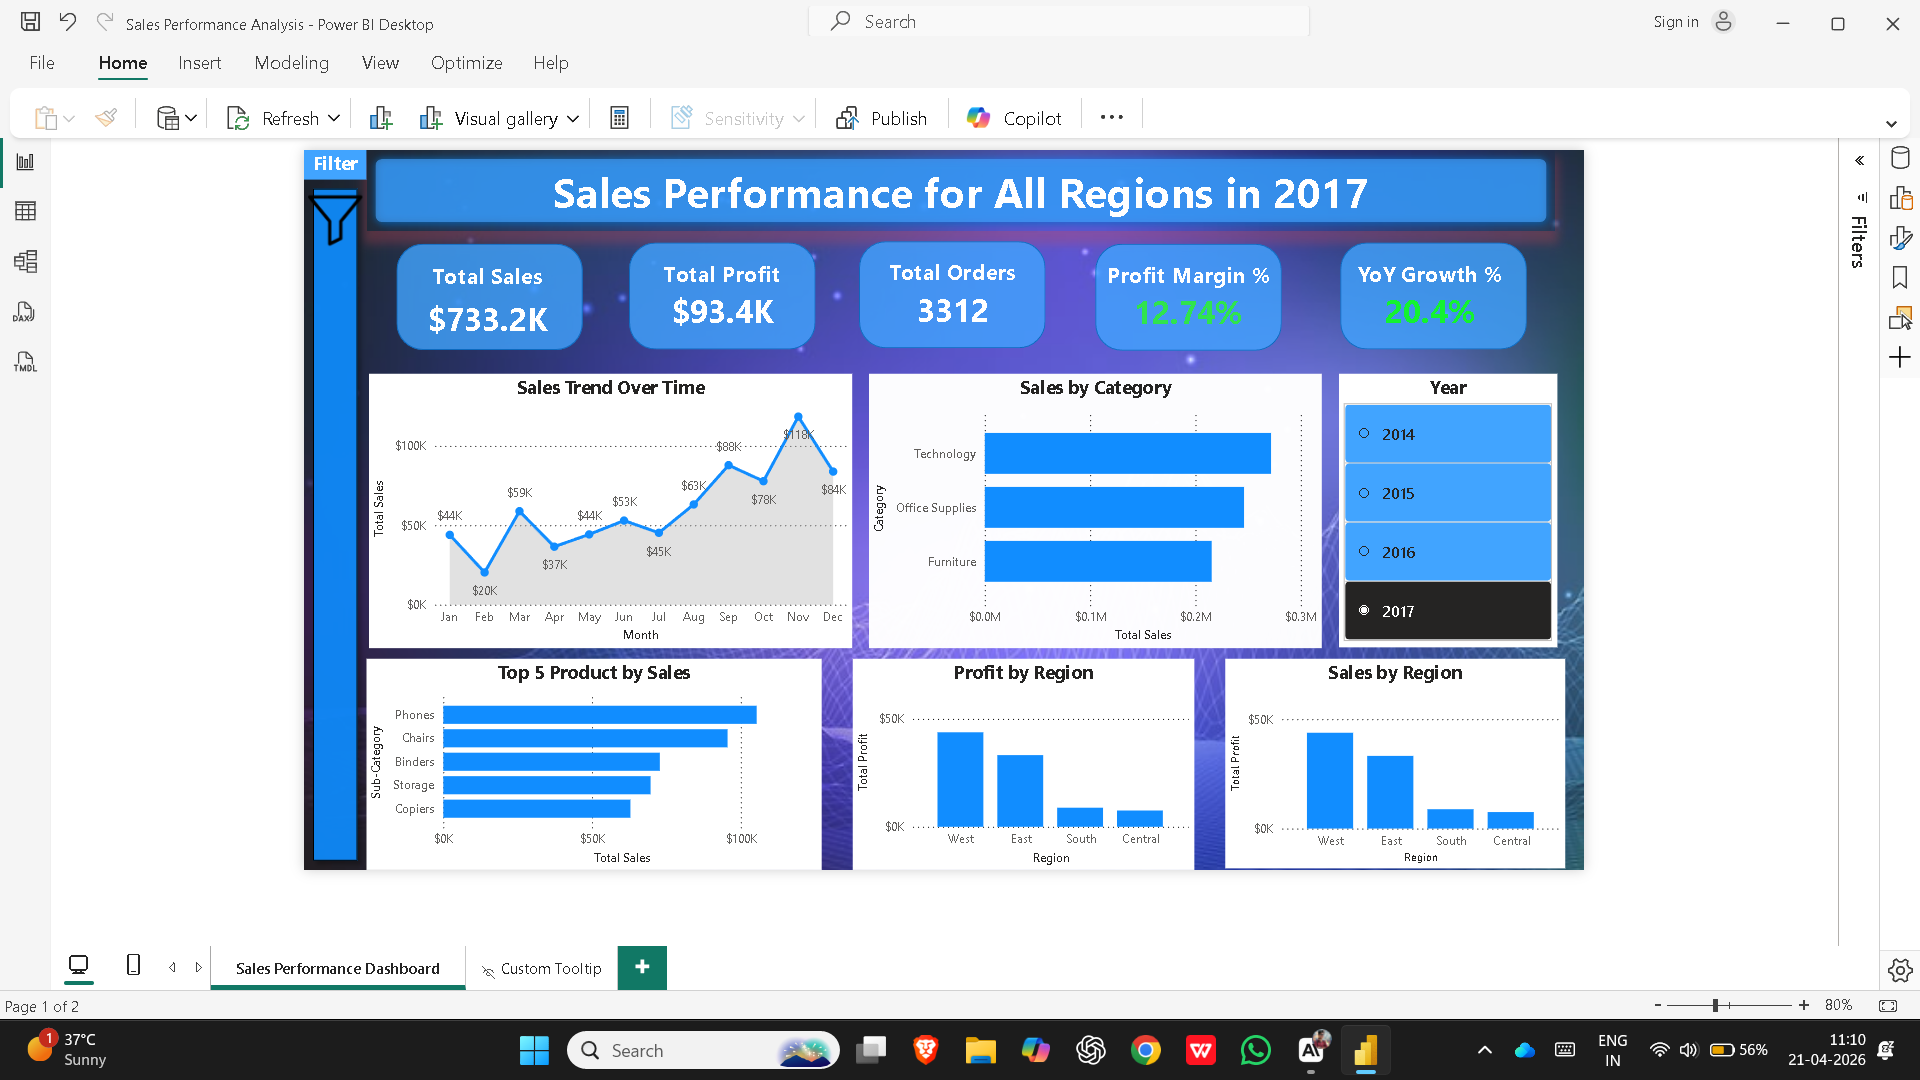

The dashboard page shown, as its layout file describes it:
{"tool":"powerbi","page":{"name":"Sales Performance Dashboard","canvas":[1280,720],"ordinal":0},"visuals":[{"type":"shape","title":"Filter","box":[0,0,62.5,720],"z":0,"group":"g1"},{"type":"shape","box":[62.6,0,1189,81],"z":1000},{"type":"actionButton","title":"Open Button","box":[0,31.2,62.5,78.8],"z":1000,"group":"g1"},{"type":"lineChart","title":"Sales Trend Over Time","fields":{"Category":["DateTable.Month"],"Y":["Key Measures.Total Sales"]},"box":[64.9,223.6,483.3,274.1],"z":3000},{"type":"barChart","title":"Sales by Category","fields":{"Category":["Sales_Data.Category"],"Y":["Key Measures.Total Sales"]},"box":[565.6,223.6,453,274.1],"z":4000},{"type":"clusteredColumnChart","title":"Sales by Region","fields":{"Category":["Sales_Data.Region"],"Y":["Key Measures.Total Profit"]},"box":[921.5,509.2,339.9,209.8],"z":5000},{"type":"columnChart","title":" Profit by Region","fields":{"Category":["Sales_Data.Region"],"Y":["Key Measures.Total Profit"]},"box":[548.9,508.8,341.2,211.2],"z":6000},{"type":"clusteredBarChart","title":"Top 5 Product by Sales","fields":{"Category":["Sales_Data.Sub-Category"],"Y":["Key Measures.Total Sales"]},"box":[62.5,508.8,455,211.2],"z":7000},{"type":"group","id":"g1","title":"Filter_Panel","box":[0,0,62.5,720],"z":9000},{"type":"advancedSlicerVisual","fields":{"Values":["DateTable.Year"]},"box":[1035.6,223.3,218.4,273.6],"z":10000},{"type":"shape","box":[92.5,93.8,186.2,106.2],"z":11000},{"type":"card","title":"Total Sales","fields":{"Values":["Key Measures.Total Sales"]},"box":[114.3,110,140,88.6],"z":12000},{"type":"shape","box":[324.9,92.9,186.6,107],"z":13000},{"type":"card","title":"Total Profit","fields":{"Values":["Key Measures.Total Profit"]},"box":[329.5,107.4,177.5,77.9],"z":14000},{"type":"shape","box":[555.6,91.5,186.6,107],"z":15000},{"type":"card","title":"Total Orders","fields":{"Values":["Key Measures.Total Orders"]},"box":[560.1,106.1,177.5,77.9],"z":16000},{"type":"shape","box":[791.7,94,186.6,107],"z":17000},{"type":"card","title":"Profit Margin %","fields":{"Values":["Key Measures.Profit Margin %"]},"box":[796.6,108.9,176.6,77.1],"z":18000},{"type":"shape","box":[1036,92.8,186.6,107],"z":19000},{"type":"card","title":"YoY Growth %","fields":{"Values":["Key Measures.YoY Growth %"]},"box":[1041.4,107.1,170,77.1],"z":20000}]}

Visuals, with their boxes on the page's 1280x720 design canvas (x1, y1, x2, y2). These are canvas units, not pixel positions in the 1920x1080 screenshot, which may show the page scaled, cropped or inside an application window:
"Filter" shape: (0,0,62,720)
shape: (63,0,1252,81)
"Open Button" actionButton: (0,31,62,110)
"Sales Trend Over Time" lineChart: (65,224,548,498)
"Sales by Category" barChart: (566,224,1019,498)
"Sales by Region" clusteredColumnChart: (922,509,1261,719)
" Profit by Region" columnChart: (549,509,890,720)
"Top 5 Product by Sales" clusteredBarChart: (62,509,518,720)
"Filter_Panel" group: (0,0,62,720)
advancedSlicerVisual - DateTable.Year: (1036,223,1254,497)
shape: (92,94,279,200)
"Total Sales" card: (114,110,254,199)
shape: (325,93,512,200)
"Total Profit" card: (330,107,507,185)
shape: (556,92,742,198)
"Total Orders" card: (560,106,738,184)
shape: (792,94,978,201)
"Profit Margin %" card: (797,109,973,186)
shape: (1036,93,1223,200)
"YoY Growth %" card: (1041,107,1211,184)
